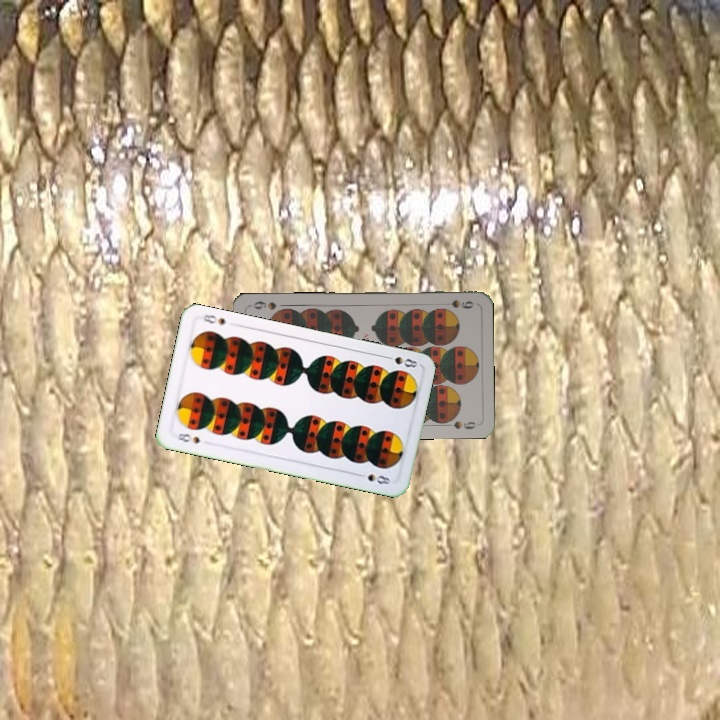S8: (380, 352, 420, 370), (173, 429, 203, 446)
S9: (439, 296, 477, 311)
